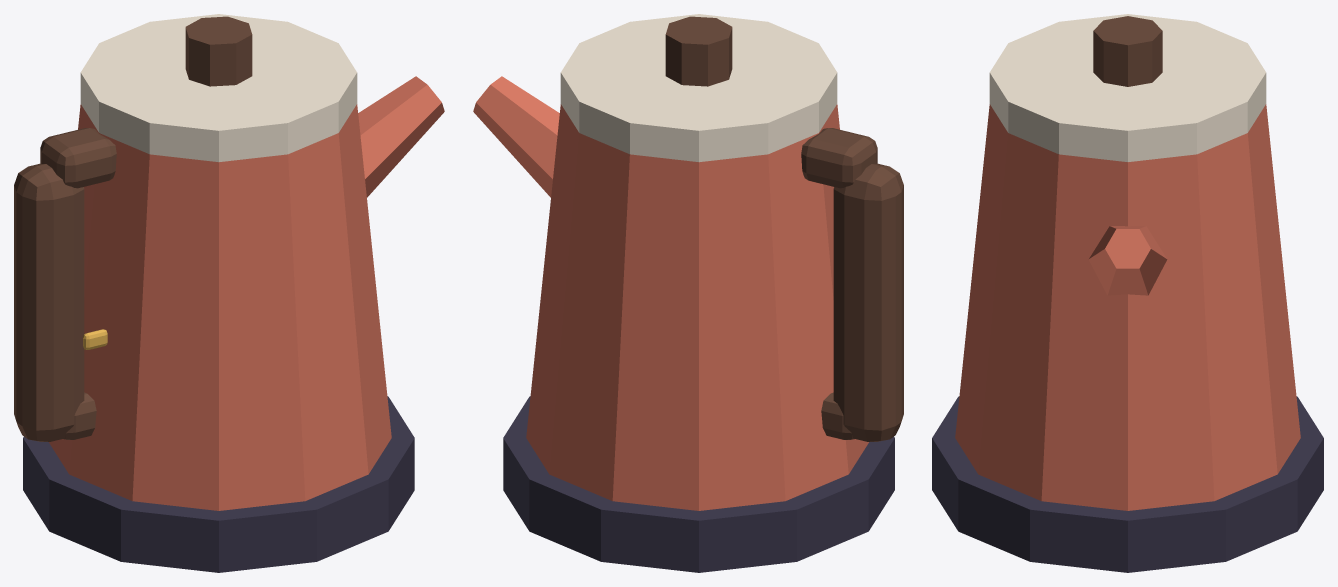
The model's file is ramen_kettle.glb.
3 views of the same model, side by side, from view 1: azimuth 30°, elevation 25°; view 2: azimuth 150°, elevation 25°; view 3: azimuth 270°, elevation 25° (orthographic).
Parts seen in each view (by area): view 1: ramen_kettle; view 2: ramen_kettle; view 3: ramen_kettle.
Boxes of the visible parts, left/top/right/bottom form: ramen_kettle: left=14, top=14, right=444, bottom=572; ramen_kettle: left=473, top=14, right=903, bottom=572; ramen_kettle: left=932, top=14, right=1323, bottom=572.
Size of the model in its own units: 0.2103 by 0.22 by 0.17.
